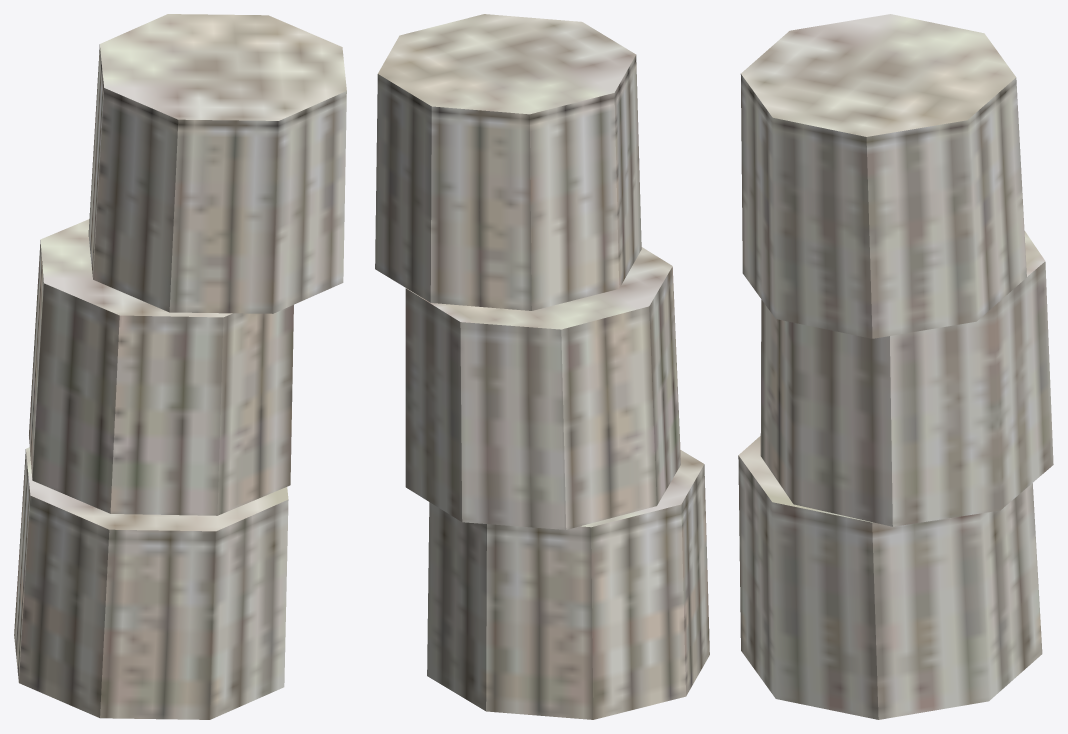
The model's file is column_doric_fallen_b_0.glb.
3 renders of one model, left to right at view 1: azimuth 30°, elevation 25°; view 2: azimuth 150°, elevation 25°; view 3: azimuth 270°, elevation 25°, orthographic. The views are drawn at different scales.
Visible parts, largest first — view 1: m_props_column_fallen_d_mesh; view 2: m_props_column_fallen_d_mesh; view 3: m_props_column_fallen_d_mesh.
Boxes of the visible parts, left/top/right/bottom form: m_props_column_fallen_d_mesh: left=14, top=14, right=346, bottom=719; m_props_column_fallen_d_mesh: left=375, top=14, right=709, bottom=719; m_props_column_fallen_d_mesh: left=738, top=14, right=1053, bottom=719.
Bounding box in the file's own units: 2.37 × 4.38 × 2.01.
Materials: 1 (1 with a texture image).
